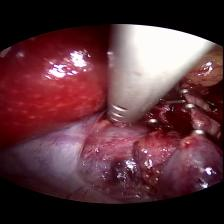Irrigator: (97, 78, 158, 128)
